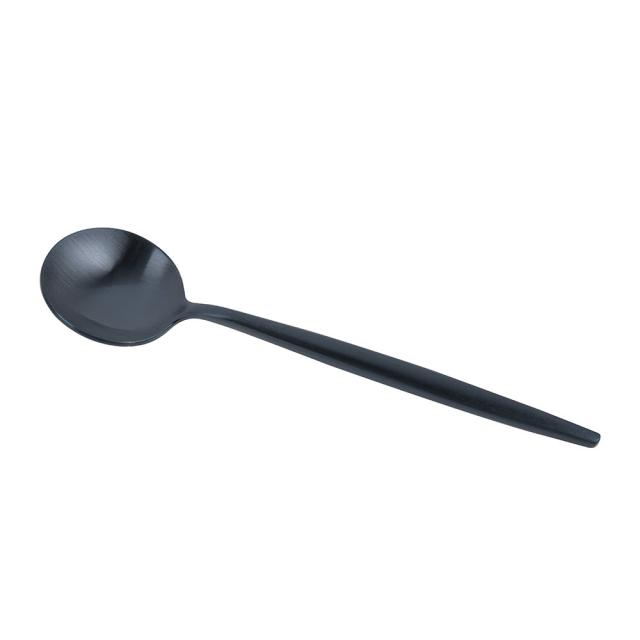spoon: (30, 212, 607, 462)
